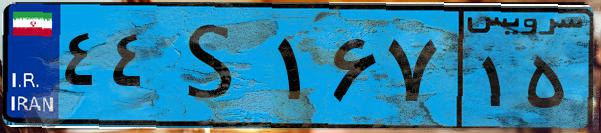1: (270, 28, 330, 110), (475, 38, 525, 113)
4: (57, 26, 110, 100), (110, 28, 158, 98)
5: (525, 38, 570, 115)
6: (330, 28, 385, 110)
7: (385, 28, 445, 110)
S: (158, 12, 270, 120)
